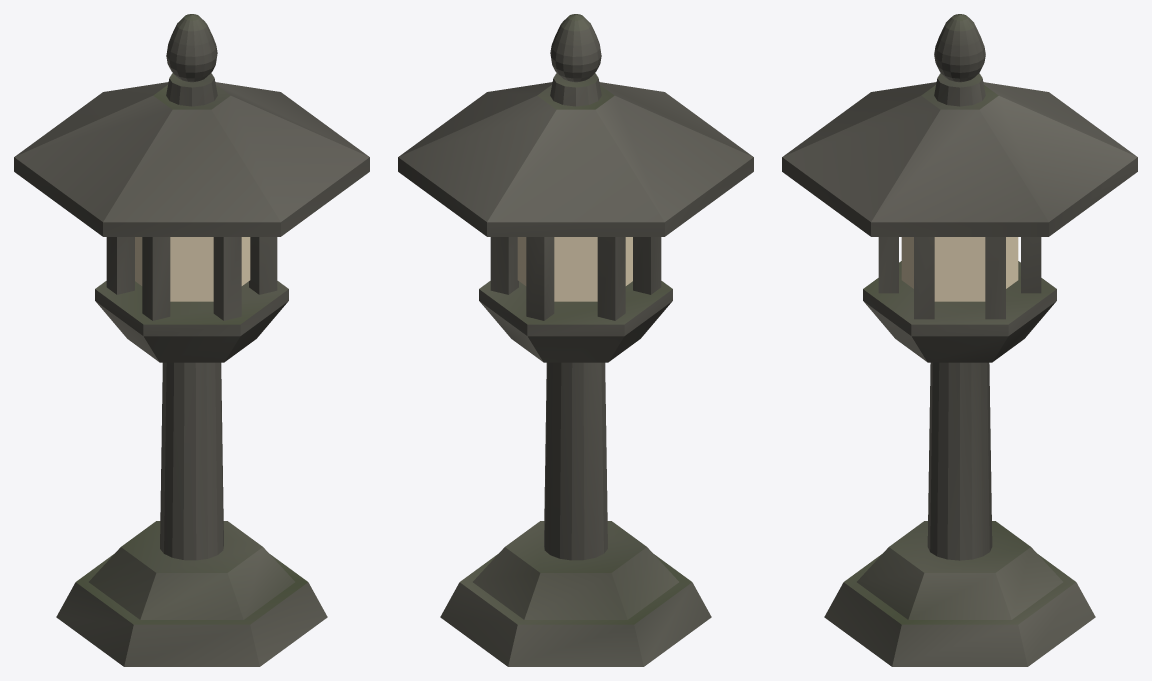
File: lantern.glb
3 views of the same model, side by side, from view 1: azimuth 30°, elevation 25°; view 2: azimuth 150°, elevation 25°; view 3: azimuth 270°, elevation 25° (orthographic).
Visible parts, largest first — view 1: Lantern, LanternGlow; view 2: Lantern, LanternGlow; view 3: Lantern, LanternGlow.
Boxes of the visible parts, x1,y1,x2,y2 form: Lantern: (14, 14, 369, 666); LanternGlow: (135, 237, 250, 301); Lantern: (398, 14, 753, 666); LanternGlow: (517, 237, 632, 301); Lantern: (782, 14, 1137, 666); LanternGlow: (901, 237, 1018, 301).
Bounding box in the file's own units: 0.9526 × 2.06 × 1.1.
